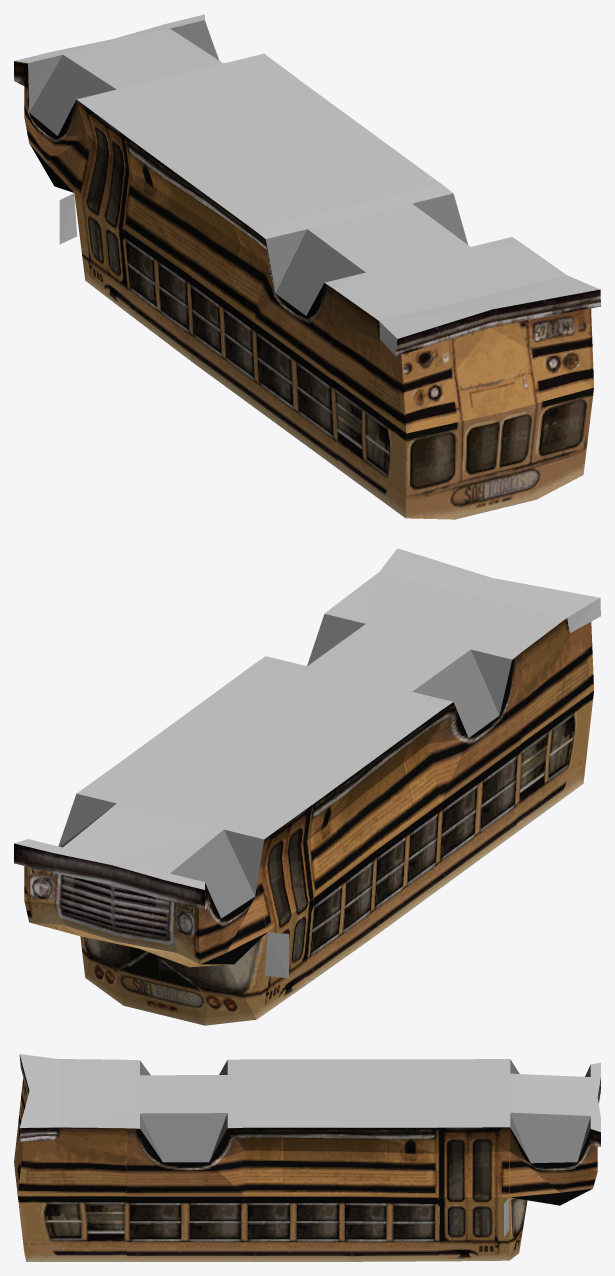
File: CHICAGO_model10_damaged.obj
3 renders of one model, top to bottom at view 1: azimuth 30°, elevation 25°; view 2: azimuth 150°, elevation 25°; view 3: azimuth 270°, elevation 25°, orthographic. The views are drawn at different scales.
Parts seen in each view (by area): view 1: CHICAGO_model10_damaged; view 2: CHICAGO_model10_damaged; view 3: CHICAGO_model10_damaged.
Boxes of the visible parts, box(x1,y1,x2,y2) form: CHICAGO_model10_damaged: box(14, 14, 600, 519); CHICAGO_model10_damaged: box(14, 548, 600, 1025); CHICAGO_model10_damaged: box(14, 1054, 600, 1261).
Bounding box in the file's own units: 420 × 346 × 1248.
